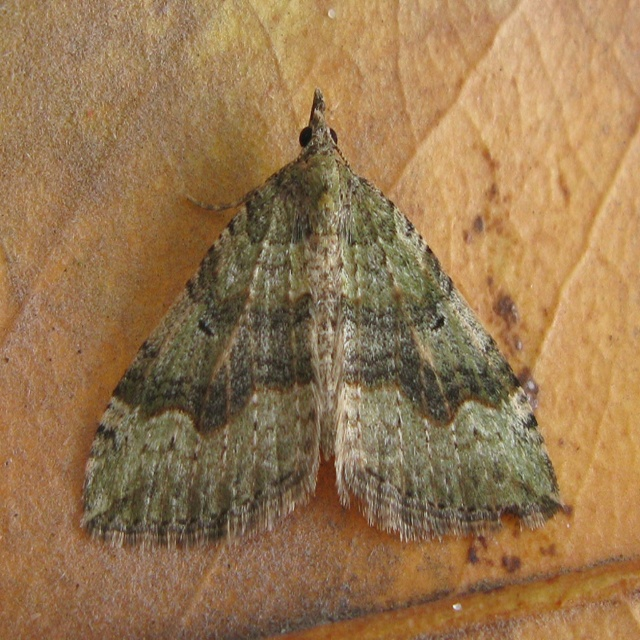Moths and butterflies: (81, 86, 566, 543)
